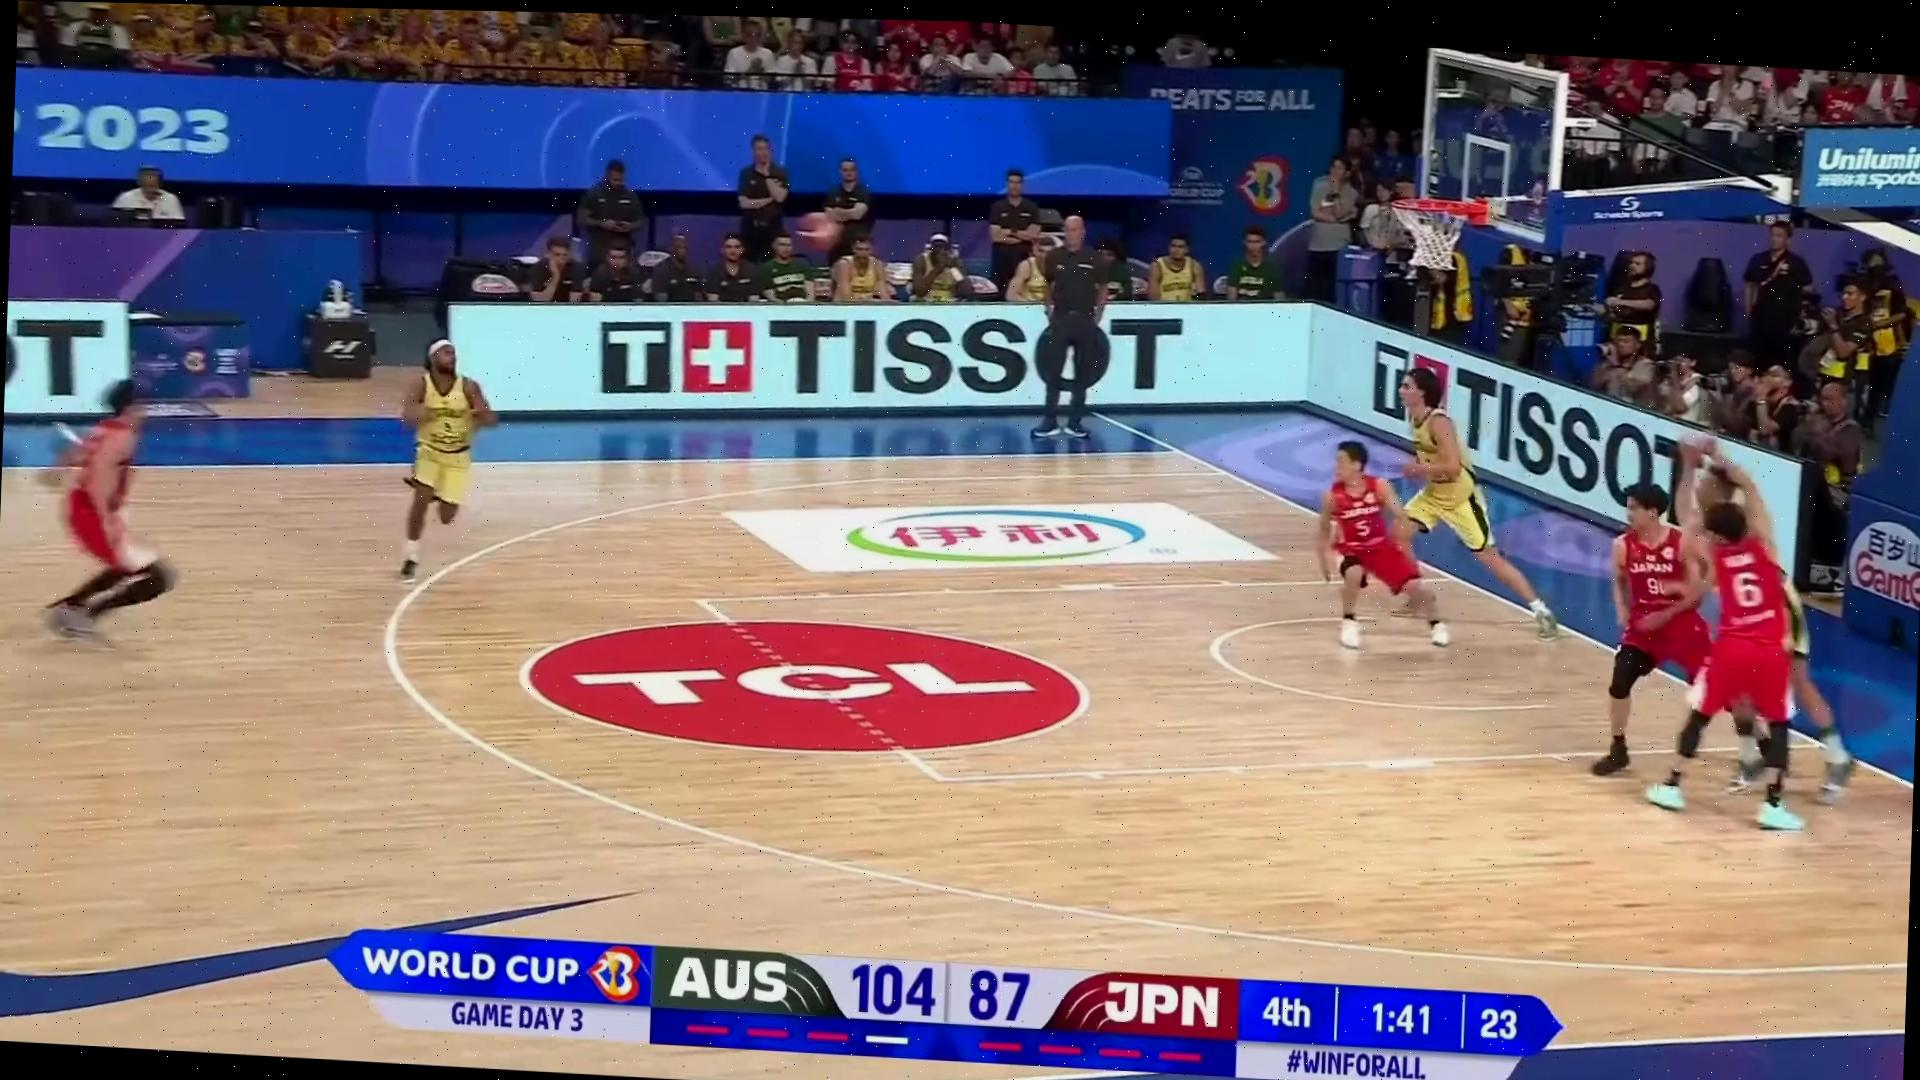no_foul: (356, 323, 497, 587)
